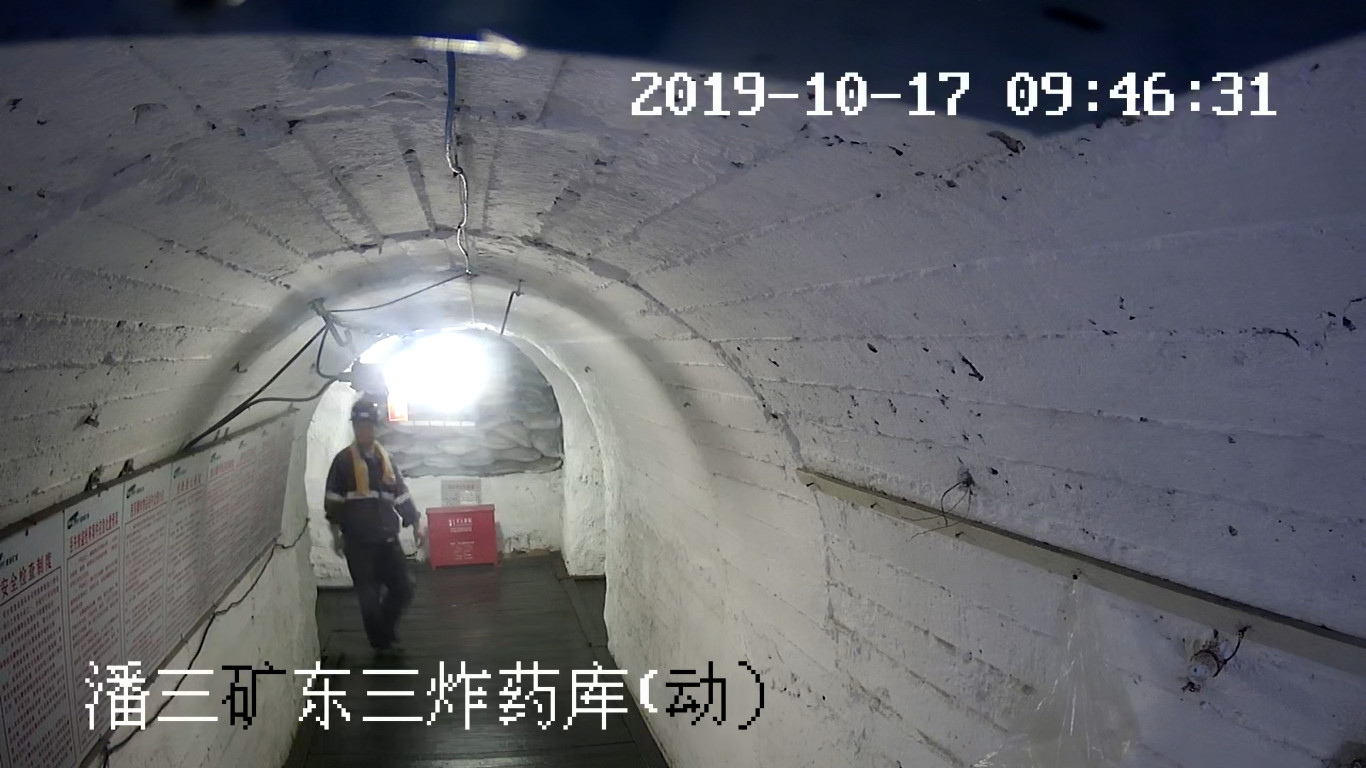helmet: (349, 399, 378, 424)
